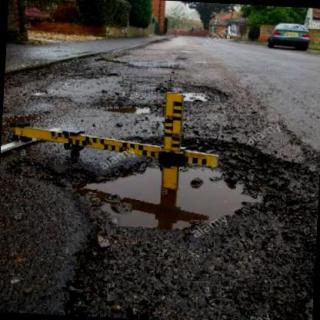pothole: (8, 138, 295, 231), (169, 85, 228, 106), (97, 105, 156, 115), (116, 135, 163, 147)
